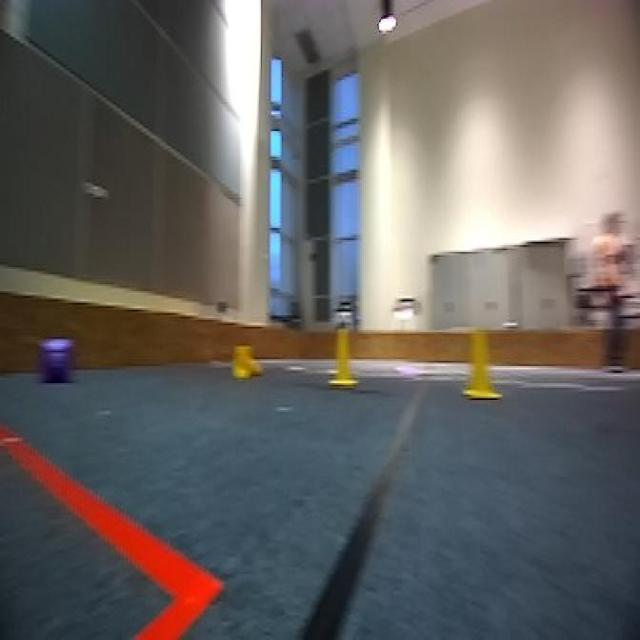frc_cone: (463, 329, 497, 405), (329, 324, 357, 386), (231, 342, 266, 381)
frc_cube: (42, 335, 74, 385)
